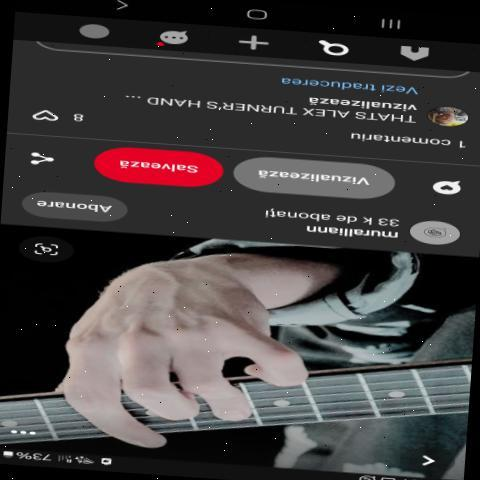Hands: (46, 250, 336, 461)
